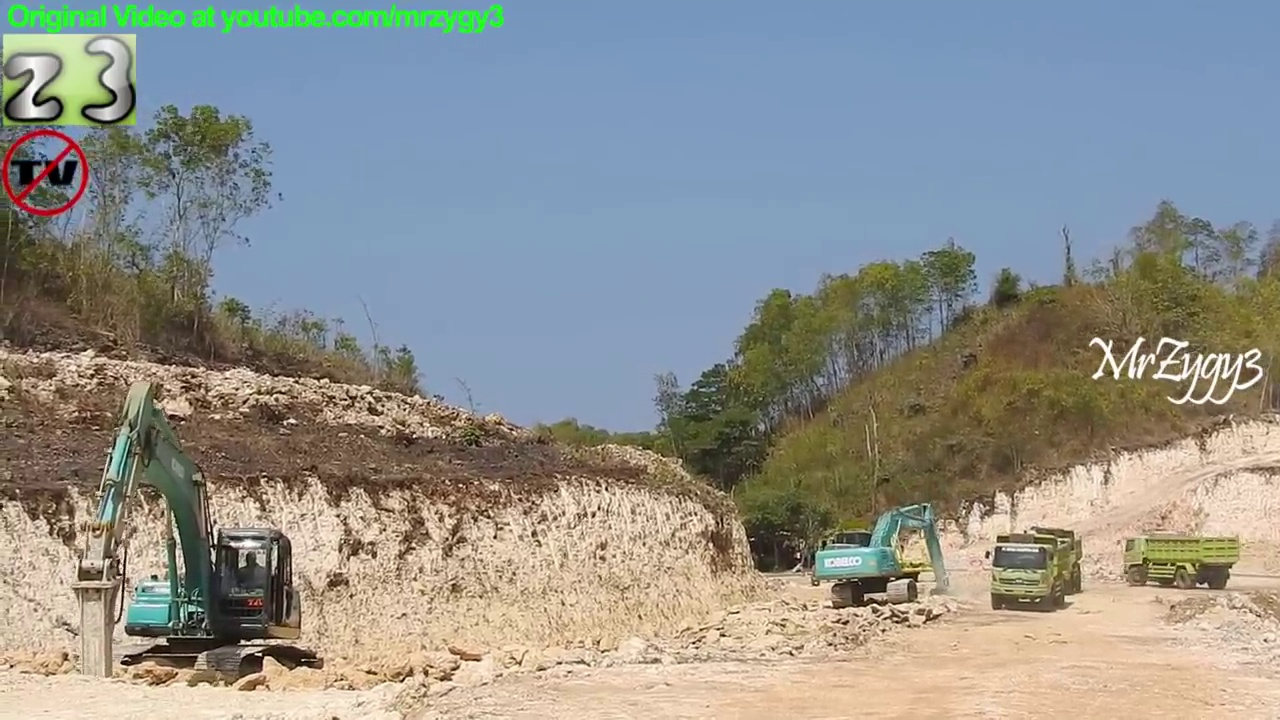excavator: (815, 498, 957, 614)
excavator breaker: (67, 376, 329, 696)
truck: (1120, 530, 1244, 599), (995, 521, 1086, 606), (982, 530, 1072, 612)
